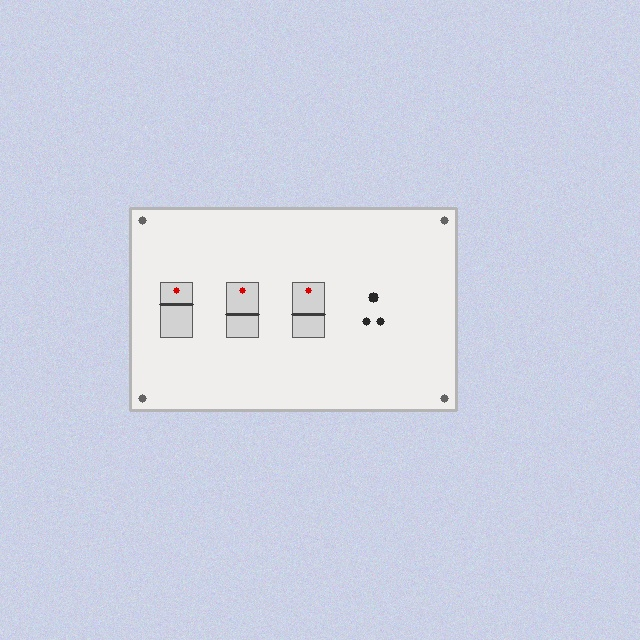switchboard: (130, 208, 456, 410)
